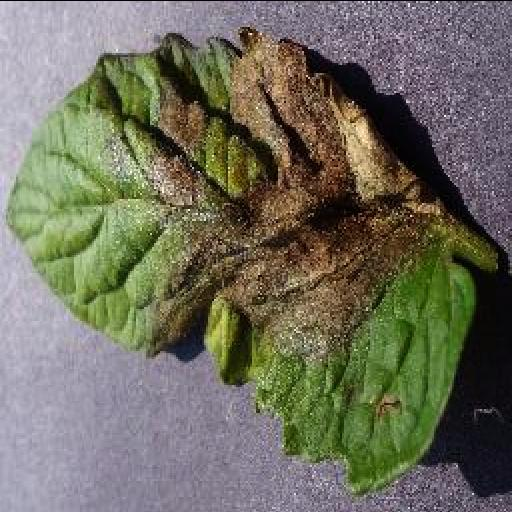disease_tomato: (0, 24, 472, 492)
